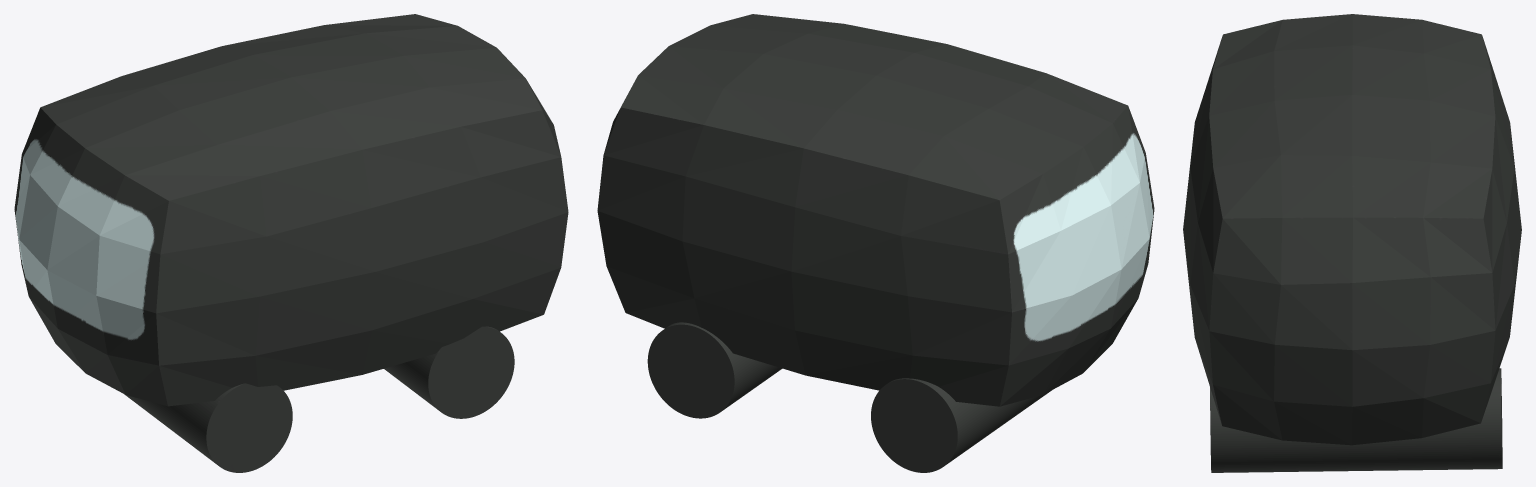
File: bus.fbx
3 views of the same model, side by side, from view 1: azimuth 30°, elevation 25°; view 2: azimuth 150°, elevation 25°; view 3: azimuth 270°, elevation 25° (orthographic).
Visible parts, largest first — view 1: node_id7 (×3); view 2: node_id7 (×3); view 3: node_id7 (×2).
Boxes of the visible parts, x1,y1,x2,y2 form: node_id7 (×3): [14, 14, 568, 472]; node_id7 (×3): [597, 14, 1154, 472]; node_id7 (×2): [1183, 14, 1521, 472].
Bounding box in the file's own units: 0.512 × 0.3166 × 0.3046.
3 materials, 3 textured.
